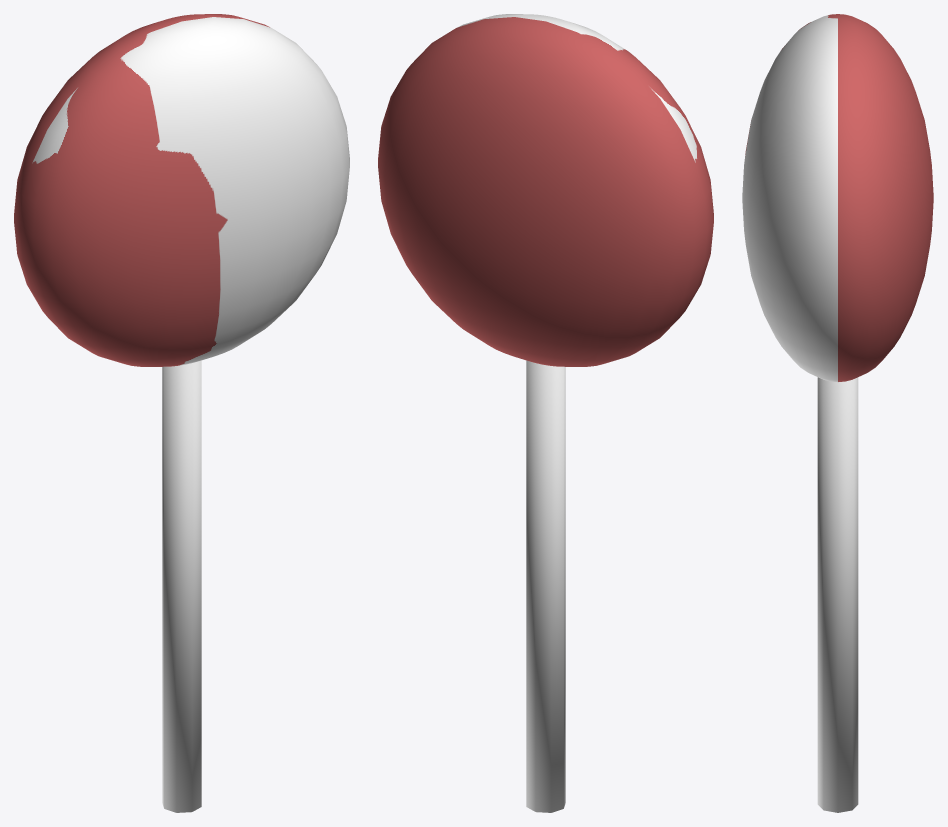
The model's file is candy1fbx.fbx.
3 renders of one model, left to right at view 1: azimuth 30°, elevation 25°; view 2: azimuth 150°, elevation 25°; view 3: azimuth 270°, elevation 25°, orthographic.
Visible parts, largest first — view 1: Sphere, Cylinder; view 2: Sphere, Cylinder; view 3: Sphere, Cylinder.
Part boxes in pixels (bbox=[...]): Sphere: bbox=[14, 14, 349, 366]; Cylinder: bbox=[162, 360, 201, 812]; Sphere: bbox=[378, 14, 713, 366]; Cylinder: bbox=[526, 360, 565, 812]; Sphere: bbox=[742, 14, 933, 381]; Cylinder: bbox=[817, 377, 858, 812].
Bounding box in the file's own units: 200 × 463 × 104.
